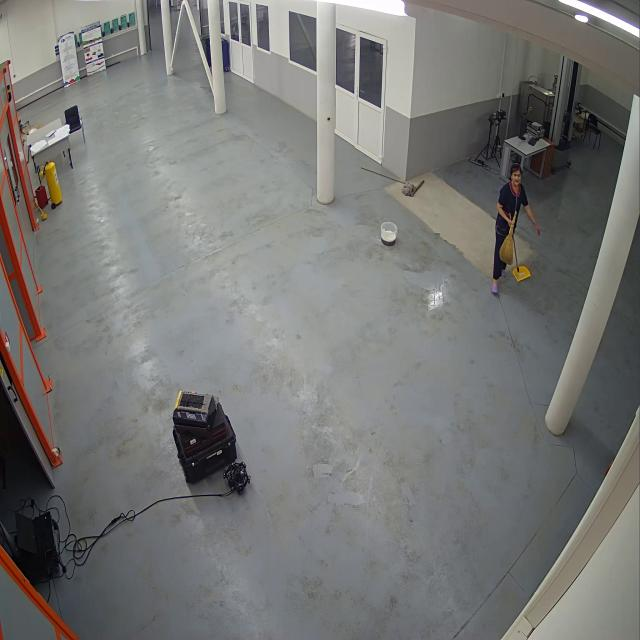NO-Hardhat: (510, 165, 523, 178)
Person: (490, 161, 543, 296)
